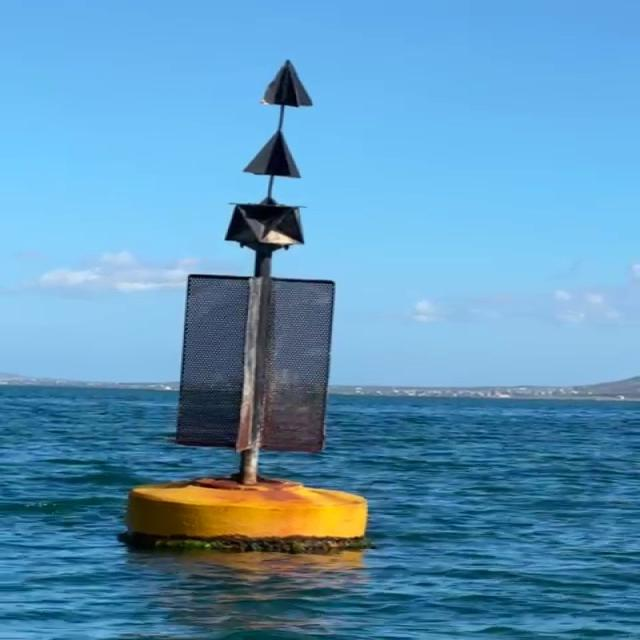marque: (134, 57, 376, 555)
